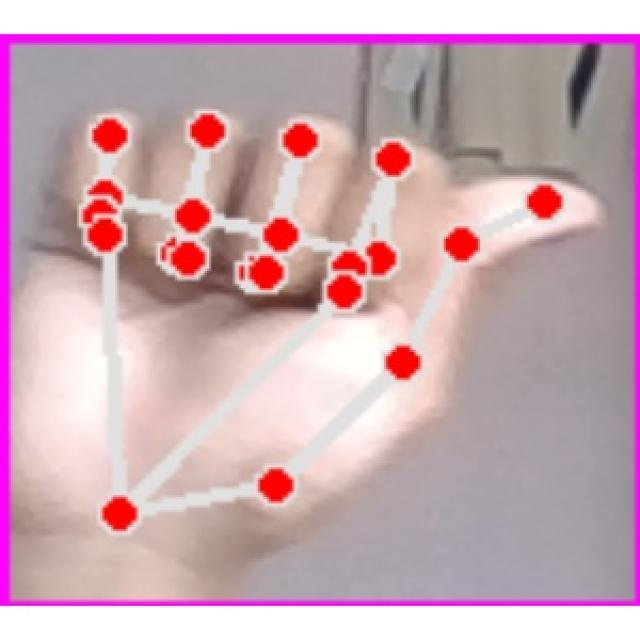A: (23, 76, 626, 574)
